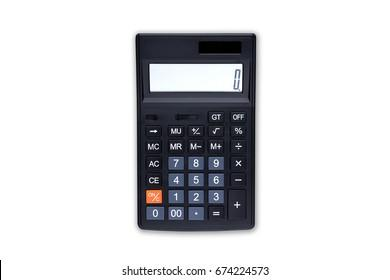Calculator: (119, 18, 275, 242)
